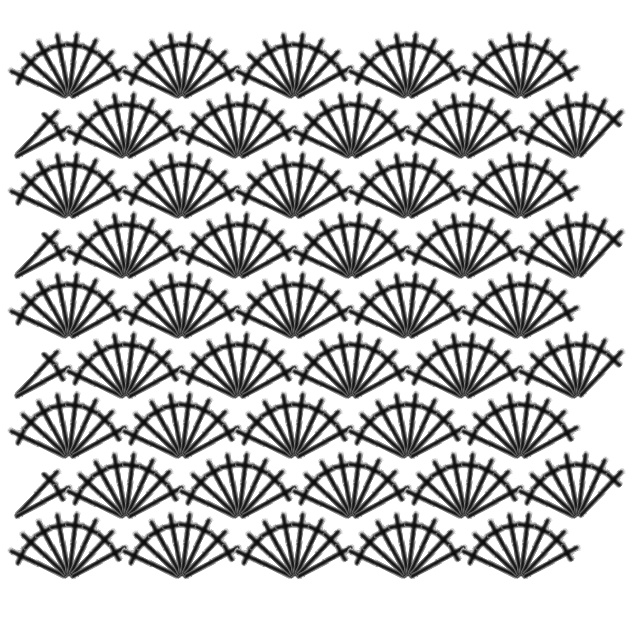enseble_chain: (8, 37, 83, 112), (55, 37, 130, 112), (121, 37, 196, 112), (168, 37, 243, 112), (234, 37, 309, 112), (281, 37, 356, 112), (347, 37, 422, 112), (394, 37, 469, 112), (460, 37, 535, 112), (507, 37, 582, 112), (65, 97, 140, 172), (112, 97, 187, 172), (178, 97, 253, 172), (225, 97, 300, 172), (291, 97, 366, 172), (338, 97, 413, 172), (404, 97, 479, 172), (451, 97, 526, 172), (517, 97, 592, 172), (564, 97, 639, 172), (8, 157, 83, 232), (55, 157, 130, 232), (121, 157, 196, 232), (168, 157, 243, 232), (234, 157, 309, 232), (281, 157, 356, 232), (347, 157, 422, 232), (394, 157, 469, 232), (460, 157, 535, 232), (507, 157, 582, 232), (65, 217, 140, 292), (112, 217, 187, 292), (178, 217, 253, 292), (225, 217, 300, 292), (291, 217, 366, 292), (338, 217, 413, 292), (404, 217, 479, 292), (451, 217, 526, 292), (517, 217, 592, 292), (564, 217, 639, 292), (8, 277, 83, 352), (55, 277, 130, 352), (121, 277, 196, 352), (168, 277, 243, 352), (234, 277, 309, 352), (281, 277, 356, 352), (347, 277, 422, 352), (394, 277, 469, 352), (460, 277, 535, 352), (507, 277, 582, 352), (65, 337, 140, 412), (112, 337, 187, 412), (178, 337, 253, 412), (225, 337, 300, 412), (291, 337, 366, 412), (338, 337, 413, 412), (404, 337, 479, 412), (451, 337, 526, 412), (517, 337, 592, 412), (564, 337, 639, 412), (8, 397, 83, 472), (55, 397, 130, 472), (121, 397, 196, 472), (168, 397, 243, 472), (234, 397, 309, 472), (281, 397, 356, 472), (347, 397, 422, 472), (394, 397, 469, 472), (460, 397, 535, 472), (507, 397, 582, 472), (65, 457, 140, 532), (112, 457, 187, 532), (178, 457, 253, 532), (225, 457, 300, 532), (291, 457, 366, 532), (338, 457, 413, 532), (404, 457, 479, 532), (451, 457, 526, 532), (517, 457, 592, 532), (564, 457, 639, 532), (8, 517, 83, 592), (55, 517, 130, 592), (121, 517, 196, 592), (168, 517, 243, 592), (234, 517, 309, 592), (281, 517, 356, 592), (347, 517, 422, 592), (394, 517, 469, 592), (460, 517, 535, 592), (507, 517, 582, 592), (0, 97, 74, 172), (0, 217, 74, 292), (0, 337, 74, 412), (0, 457, 74, 532), (0, 50, 78, 115), (21, 29, 86, 107), (52, 29, 117, 107), (60, 50, 138, 115), (113, 50, 191, 115), (134, 29, 199, 107), (165, 29, 230, 107), (173, 50, 251, 115), (226, 50, 304, 115), (247, 29, 312, 107), (278, 29, 343, 107), (286, 50, 364, 115), (339, 50, 417, 115), (360, 29, 425, 107), (391, 29, 456, 107), (399, 50, 477, 115), (452, 50, 530, 115), (473, 29, 538, 107), (504, 29, 569, 107), (512, 50, 590, 115), (4, 110, 82, 175), (57, 110, 135, 175), (78, 89, 143, 167), (109, 89, 174, 167), (117, 110, 195, 175), (170, 110, 248, 175), (191, 89, 256, 167), (222, 89, 287, 167), (230, 110, 308, 175), (283, 110, 361, 175), (304, 89, 369, 167), (335, 89, 400, 167), (343, 110, 421, 175), (396, 110, 474, 175), (417, 89, 482, 167), (448, 89, 513, 167), (456, 110, 534, 175), (509, 110, 587, 175), (530, 89, 595, 167), (561, 89, 626, 167), (0, 170, 78, 235), (21, 149, 86, 227), (52, 149, 117, 227), (60, 170, 138, 235), (113, 170, 191, 235), (134, 149, 199, 227), (165, 149, 230, 227), (173, 170, 251, 235), (226, 170, 304, 235), (247, 149, 312, 227), (278, 149, 343, 227), (286, 170, 364, 235), (339, 170, 417, 235), (360, 149, 425, 227), (391, 149, 456, 227), (399, 170, 477, 235), (452, 170, 530, 235), (473, 149, 538, 227), (504, 149, 569, 227), (512, 170, 590, 235), (4, 230, 82, 295), (57, 230, 135, 295), (78, 209, 143, 287), (109, 209, 174, 287), (117, 230, 195, 295), (170, 230, 248, 295), (191, 209, 256, 287), (222, 209, 287, 287), (230, 230, 308, 295), (283, 230, 361, 295), (304, 209, 369, 287), (335, 209, 400, 287), (343, 230, 421, 295), (396, 230, 474, 295), (417, 209, 482, 287), (448, 209, 513, 287), (456, 230, 534, 295), (509, 230, 587, 295), (530, 209, 595, 287), (561, 209, 626, 287), (0, 290, 78, 355), (21, 269, 86, 347), (52, 269, 117, 347), (60, 290, 138, 355), (113, 290, 191, 355), (134, 269, 199, 347), (165, 269, 230, 347), (173, 290, 251, 355), (226, 290, 304, 355), (247, 269, 312, 347), (278, 269, 343, 347), (286, 290, 364, 355), (339, 290, 417, 355), (360, 269, 425, 347), (391, 269, 456, 347), (399, 290, 477, 355), (452, 290, 530, 355), (473, 269, 538, 347), (504, 269, 569, 347), (512, 290, 590, 355), (4, 350, 82, 415), (57, 350, 135, 415), (78, 329, 143, 407), (109, 329, 174, 407), (117, 350, 195, 415), (170, 350, 248, 415), (191, 329, 256, 407), (222, 329, 287, 407), (230, 350, 308, 415), (283, 350, 361, 415), (304, 329, 369, 407), (335, 329, 400, 407), (343, 350, 421, 415), (396, 350, 474, 415), (417, 329, 482, 407), (448, 329, 513, 407), (456, 350, 534, 415), (509, 350, 587, 415), (530, 329, 595, 407), (561, 329, 626, 407), (0, 410, 78, 475), (21, 389, 86, 467), (52, 389, 117, 467), (60, 410, 138, 475), (113, 410, 191, 475), (134, 389, 199, 467), (165, 389, 230, 467), (173, 410, 251, 475), (226, 410, 304, 475), (247, 389, 312, 467), (278, 389, 343, 467), (286, 410, 364, 475), (339, 410, 417, 475), (360, 389, 425, 467), (391, 389, 456, 467), (399, 410, 477, 475), (452, 410, 530, 475), (473, 389, 538, 467), (504, 389, 569, 467), (512, 410, 590, 475), (4, 470, 82, 535), (57, 470, 135, 535), (78, 449, 143, 527), (109, 449, 174, 527), (117, 470, 195, 535), (170, 470, 248, 535), (191, 449, 256, 527), (222, 449, 287, 527), (230, 470, 308, 535), (283, 470, 361, 535), (304, 449, 369, 527), (335, 449, 400, 527), (343, 470, 421, 535), (396, 470, 474, 535), (417, 449, 482, 527), (448, 449, 513, 527), (456, 470, 534, 535), (509, 470, 587, 535), (530, 449, 595, 527), (561, 449, 626, 527), (0, 530, 78, 595), (21, 509, 86, 587), (52, 509, 117, 587), (60, 530, 138, 595), (113, 530, 191, 595), (134, 509, 199, 587), (165, 509, 230, 587), (173, 530, 251, 595), (226, 530, 304, 595), (247, 509, 312, 587), (278, 509, 343, 587), (286, 530, 364, 595), (339, 530, 417, 595), (360, 509, 425, 587), (391, 509, 456, 587), (399, 530, 477, 595), (452, 530, 530, 595), (473, 509, 538, 587), (504, 509, 569, 587), (512, 530, 590, 595), (39, 29, 88, 101), (50, 29, 99, 101), (152, 29, 201, 101), (163, 29, 212, 101), (265, 29, 314, 101), (276, 29, 325, 101), (378, 29, 427, 101), (389, 29, 438, 101), (491, 29, 540, 101), (502, 29, 551, 101), (96, 89, 145, 161), (107, 89, 156, 161), (209, 89, 258, 161), (220, 89, 269, 161), (322, 89, 371, 161), (333, 89, 382, 161), (435, 89, 484, 161), (446, 89, 495, 161), (548, 89, 597, 161), (559, 89, 608, 161), (39, 149, 88, 221), (50, 149, 99, 221), (152, 149, 201, 221), (163, 149, 212, 221), (265, 149, 314, 221), (276, 149, 325, 221), (378, 149, 427, 221), (389, 149, 438, 221), (491, 149, 540, 221), (502, 149, 551, 221), (96, 209, 145, 281), (107, 209, 156, 281), (209, 209, 258, 281), (220, 209, 269, 281), (322, 209, 371, 281), (333, 209, 382, 281), (435, 209, 484, 281), (446, 209, 495, 281), (548, 209, 597, 281), (559, 209, 608, 281), (39, 269, 88, 341), (50, 269, 99, 341), (152, 269, 201, 341), (163, 269, 212, 341), (265, 269, 314, 341), (276, 269, 325, 341), (378, 269, 427, 341), (389, 269, 438, 341), (491, 269, 540, 341), (502, 269, 551, 341), (96, 329, 145, 401), (107, 329, 156, 401), (209, 329, 258, 401), (220, 329, 269, 401), (322, 329, 371, 401), (333, 329, 382, 401), (435, 329, 484, 401), (446, 329, 495, 401), (548, 329, 597, 401), (559, 329, 608, 401), (39, 389, 88, 461), (50, 389, 99, 461), (152, 389, 201, 461), (163, 389, 212, 461), (265, 389, 314, 461), (276, 389, 325, 461), (378, 389, 427, 461), (389, 389, 438, 461), (491, 389, 540, 461), (502, 389, 551, 461), (96, 449, 145, 521), (107, 449, 156, 521), (209, 449, 258, 521), (220, 449, 269, 521), (322, 449, 371, 521), (333, 449, 382, 521), (435, 449, 484, 521), (446, 449, 495, 521), (548, 449, 597, 521), (559, 449, 608, 521), (39, 509, 88, 581), (50, 509, 99, 581), (152, 509, 201, 581), (163, 509, 212, 581), (265, 509, 314, 581), (276, 509, 325, 581), (378, 509, 427, 581), (389, 509, 438, 581), (491, 509, 540, 581), (502, 509, 551, 581)
